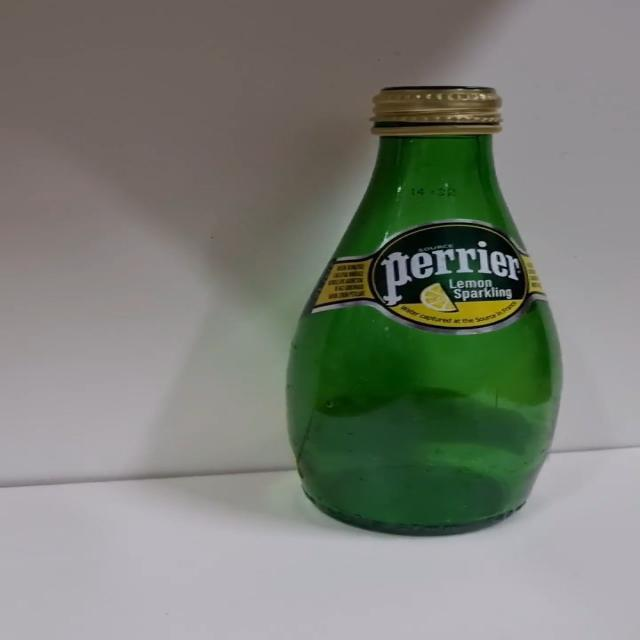Glass: (284, 85, 564, 540)
